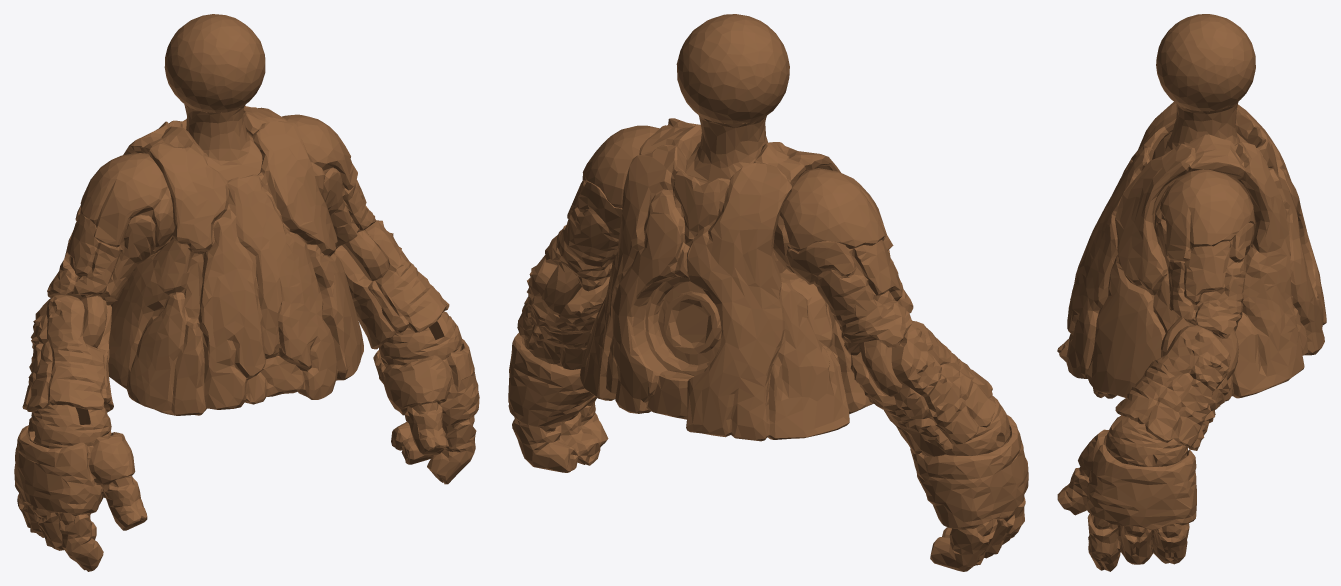
The model's file is set_04_base_body.glb.
3 views of the same model, side by side, from view 1: azimuth 30°, elevation 25°; view 2: azimuth 150°, elevation 25°; view 3: azimuth 270°, elevation 25° (orthographic). The views are drawn at different scales.
Parts seen in each view (by area): view 1: body; view 2: body; view 3: body.
Part boxes in pixels (left/top/right/bottom): body: left=14, top=14, right=479, bottom=571; body: left=508, top=14, right=1028, bottom=571; body: left=1057, top=14, right=1326, bottom=571.
Bounding box in the file's own units: 0.0612 × 0.0621 × 0.0325.
